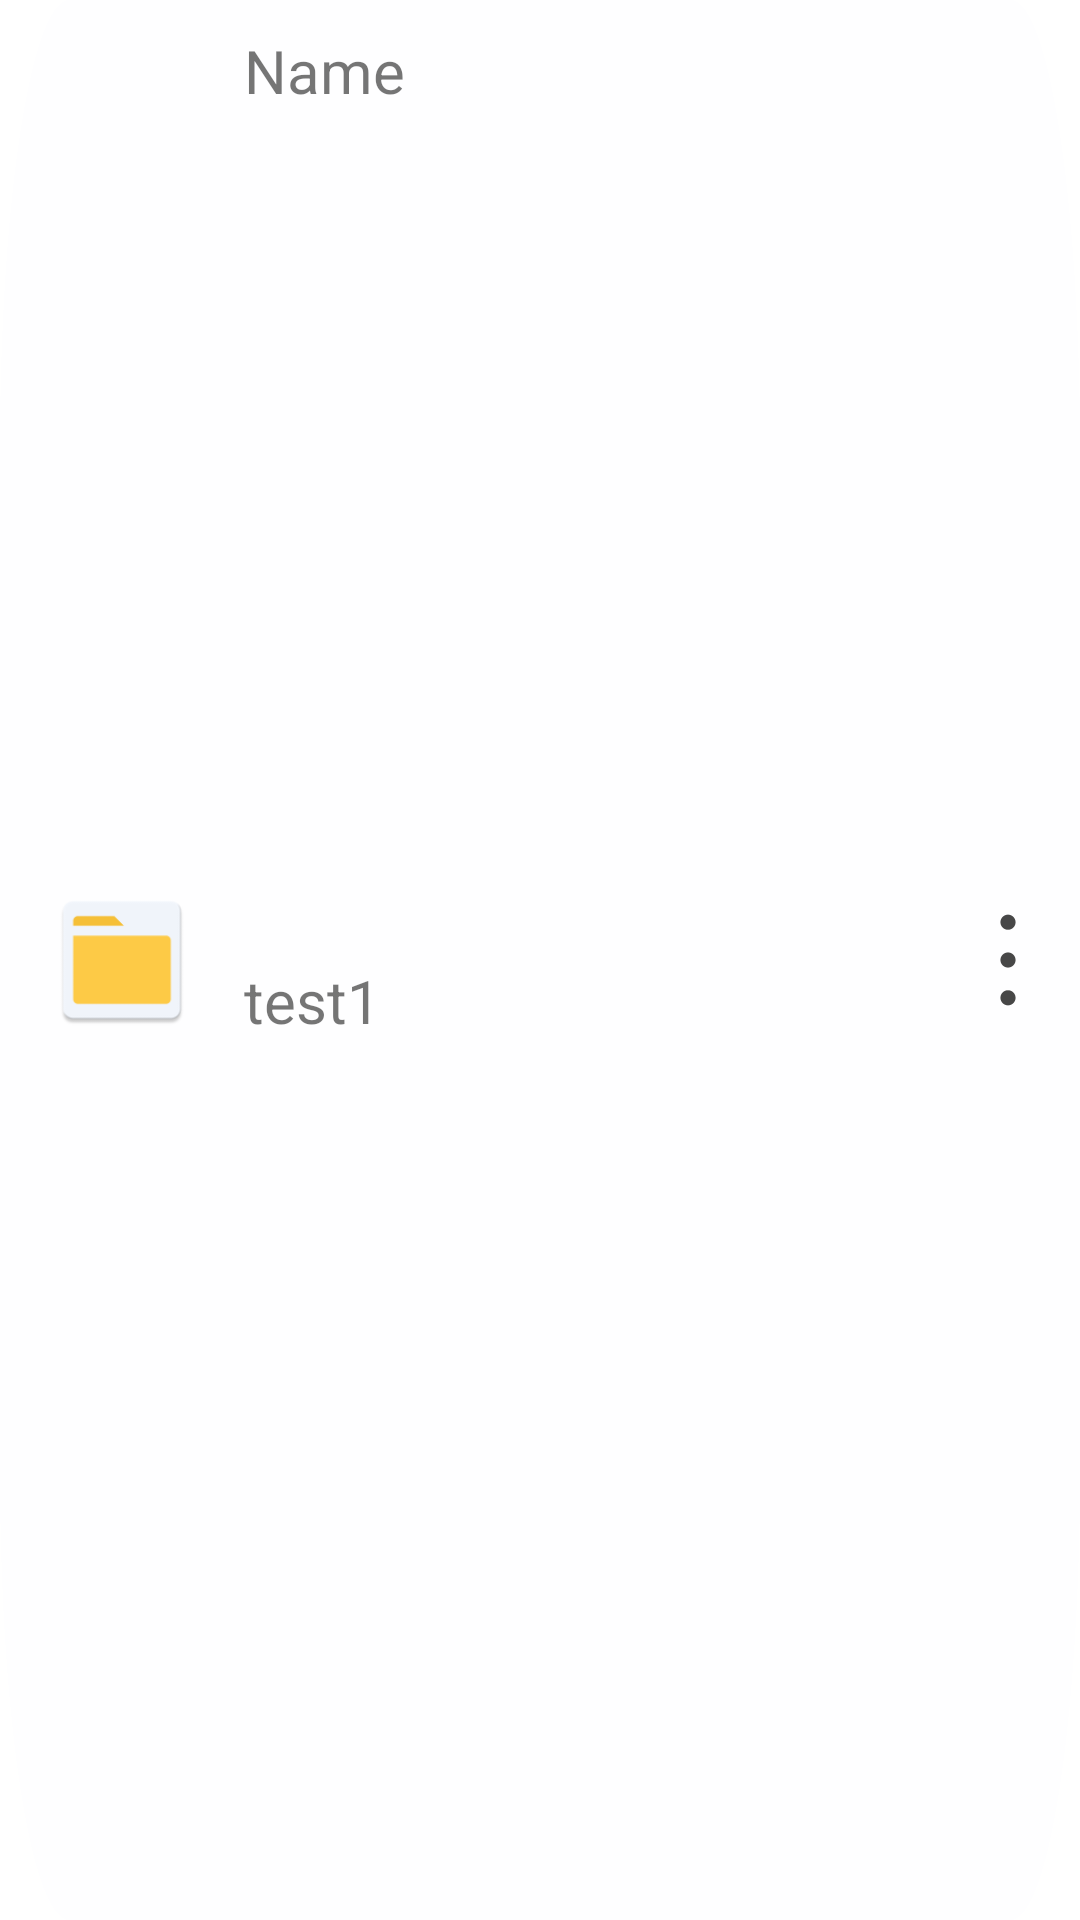

Icons on this 1080px x 1920px Android screen, each with its box as (left=x1, top=y1, right=x2, bottom=y2):
folder: (left=63, top=907, right=181, bottom=1022)
menu: (left=1000, top=914, right=1016, bottom=1006)
